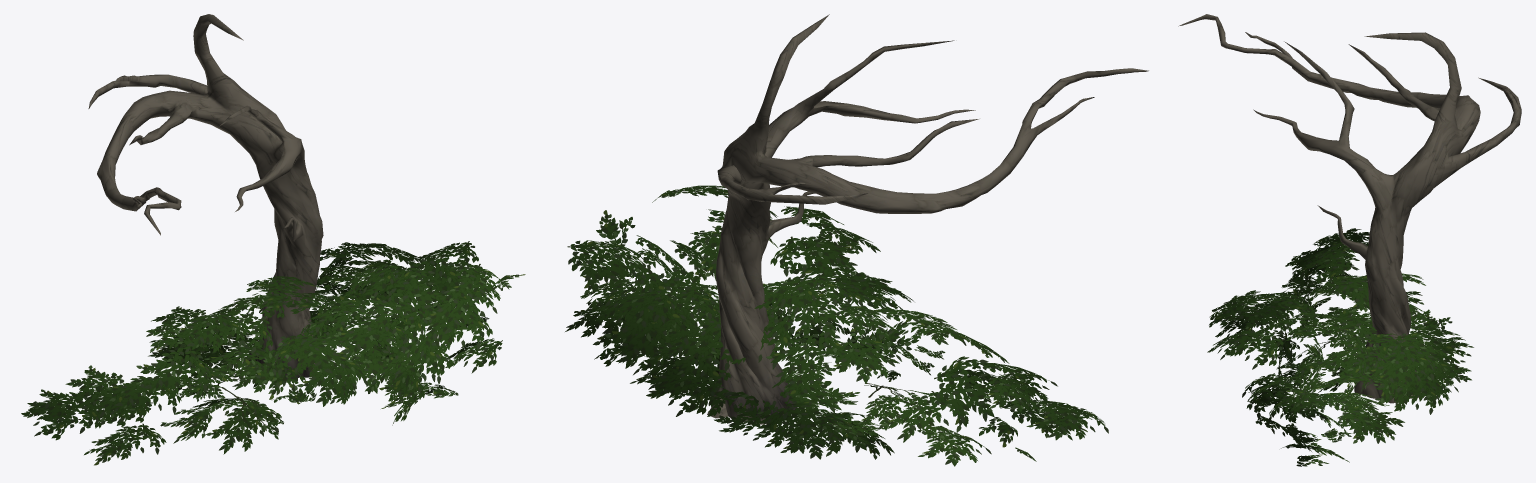
The model's file is PalmTree_3.glb.
The picture shows the model from 3 angles, left to right: view 1: azimuth 30°, elevation 25°; view 2: azimuth 150°, elevation 25°; view 3: azimuth 270°, elevation 25°; orthographic projection. The views are drawn at different scales.
Visible parts, largest first — view 1: Tree_0_SmallCanopy_LOD0, TreeRoomTree_0_LOD0; view 2: Tree_0_SmallCanopy_LOD0, TreeRoomTree_0_LOD0; view 3: Tree_0_SmallCanopy_LOD0, TreeRoomTree_0_LOD0.
Boxes of the visible parts, x1,y1,x2,y2 form: Tree_0_SmallCanopy_LOD0: [21, 241, 525, 465]; TreeRoomTree_0_LOD0: [88, 14, 323, 381]; Tree_0_SmallCanopy_LOD0: [565, 185, 1108, 466]; TreeRoomTree_0_LOD0: [707, 14, 1148, 424]; Tree_0_SmallCanopy_LOD0: [1207, 228, 1473, 466]; TreeRoomTree_0_LOD0: [1178, 14, 1521, 403].
Bounding box in the file's own units: 19.1 × 15.27 × 12.83.
2 materials, 2 textured.
